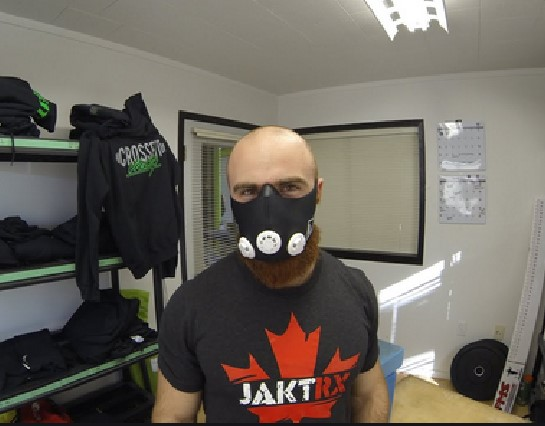face_with_mask: (228, 130, 323, 261)
